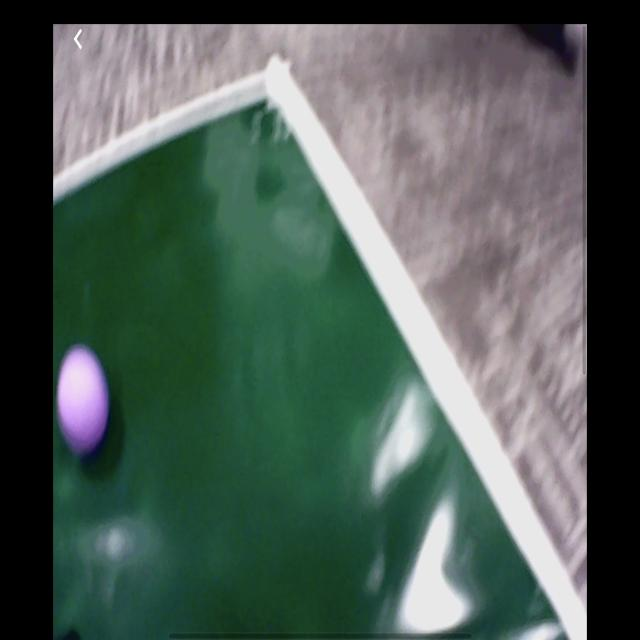ball: (56, 343, 111, 458)
